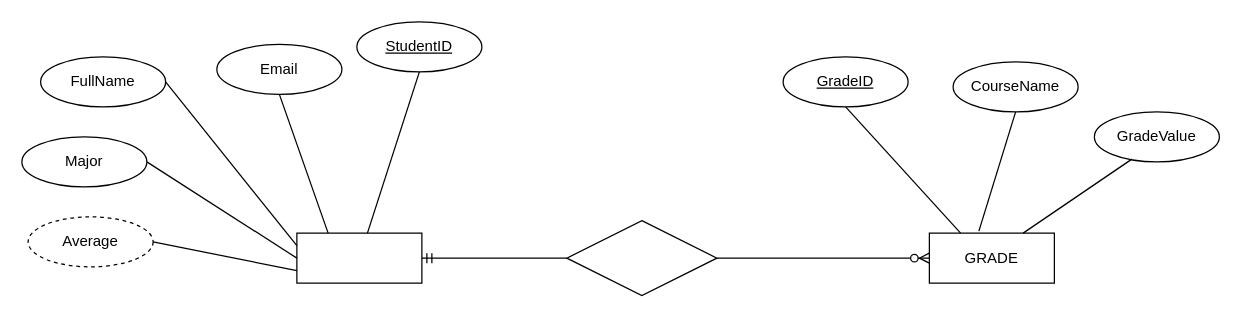
This 1241x318 diagram has some shape labels left out. Each missing label, with the box of its shape:
HAS: (566, 219, 717, 296)
STUDENT: (296, 232, 422, 283)
